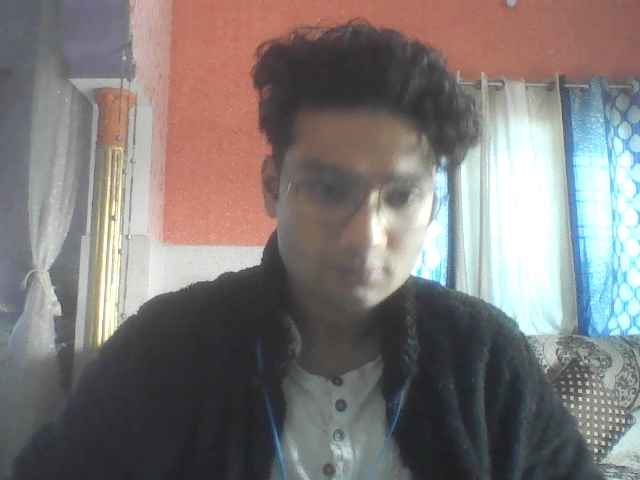real: (244, 31, 457, 333)
